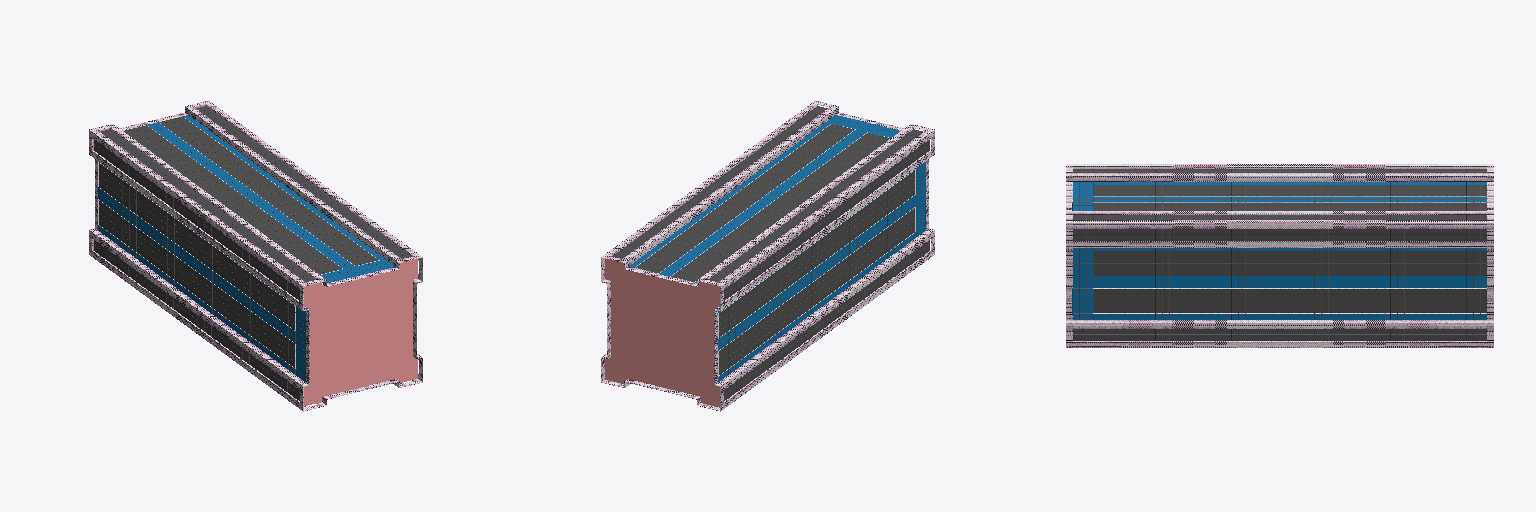
3 views of the same model, side by side, from view 1: azimuth 30°, elevation 25°; view 2: azimuth 150°, elevation 25°; view 3: azimuth 270°, elevation 25° (orthographic).
Parts seen in each view (by area): view 1: GLASS_1_01, wall_01, SLAB_01, glass_02, FRAME_01, wall_02; view 2: GLASS_1_01, wall_01, SLAB_01, glass_02, FRAME_01, wall_02, WALL_1_05; view 3: GLASS_1_01, wall_01, glass_02, FRAME_01, wall_02, WALL_1_03, WALL_1_04.
Part boxes in pixels (left/top/right/bottom): GLASS_1_01: left=94, top=106, right=411, bottom=400; wall_01: left=92, top=103, right=418, bottom=408; SLAB_01: left=93, top=105, right=417, bottom=405; glass_02: left=98, top=115, right=394, bottom=381; FRAME_01: left=94, top=107, right=408, bottom=393; wall_02: left=89, top=100, right=422, bottom=410; GLASS_1_01: left=612, top=106, right=929, bottom=400; wall_01: left=605, top=103, right=931, bottom=408; SLAB_01: left=605, top=259, right=719, bottom=407; glass_02: left=629, top=115, right=925, bottom=381; FRAME_01: left=615, top=107, right=929, bottom=393; wall_02: left=601, top=100, right=934, bottom=410; WALL_1_05: left=637, top=126, right=915, bottom=376; GLASS_1_01: left=1073, top=169, right=1486, bottom=340; wall_01: left=1073, top=164, right=1486, bottom=347; glass_02: left=1073, top=182, right=1486, bottom=319; FRAME_01: left=1073, top=169, right=1486, bottom=340; wall_02: left=1066, top=164, right=1493, bottom=347; WALL_1_03: left=1093, top=196, right=1486, bottom=202; WALL_1_04: left=1093, top=288, right=1486, bottom=313.
Size of the model in its own units: 2400 by 2400 by 7440.
Materials: 6 (2 with a texture image).